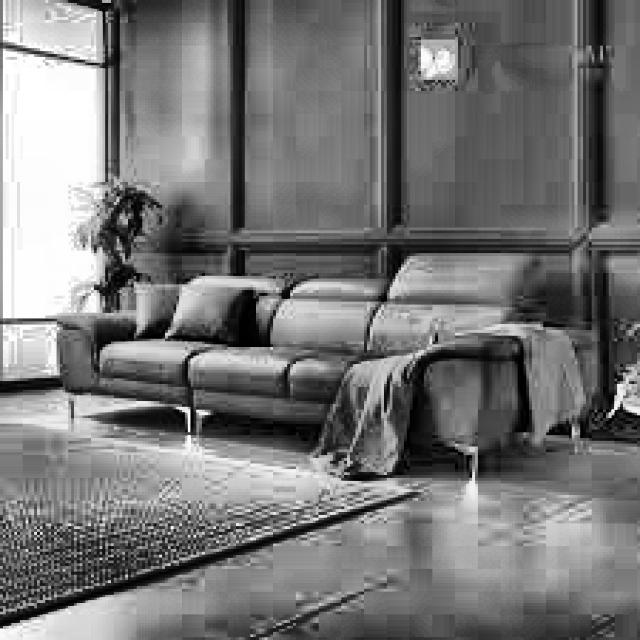sofa: (37, 253, 592, 472)
